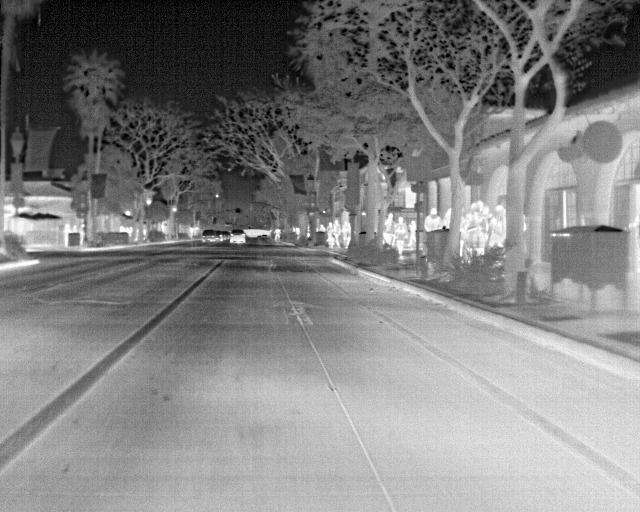bicycle: (228, 228, 248, 245), (201, 228, 217, 243)
empty: (490, 204, 508, 253), (395, 217, 409, 260), (421, 208, 442, 231), (381, 210, 394, 245), (405, 218, 418, 247), (340, 216, 352, 247), (331, 218, 343, 248), (60, 221, 73, 245)
